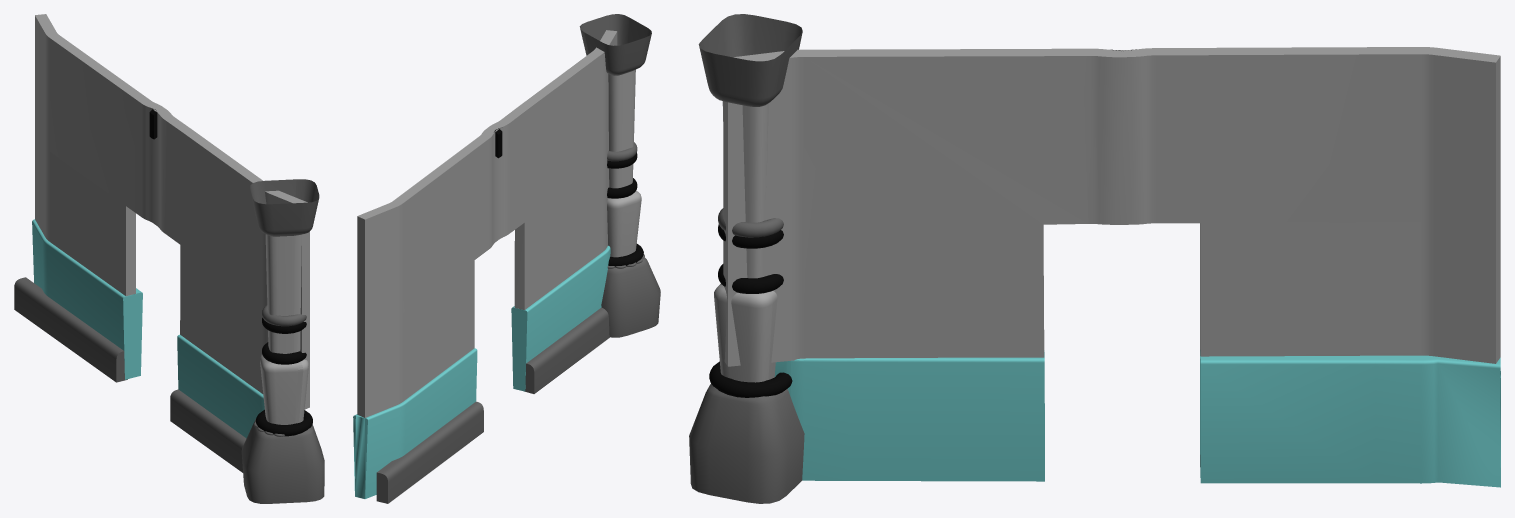
The model's file is murs_entree_serv.fbx.
The picture shows the model from 3 angles, left to right: view 1: azimuth 30°, elevation 25°; view 2: azimuth 150°, elevation 25°; view 3: azimuth 270°, elevation 25°; orthographic projection. The views are drawn at different scales.
Visible parts, largest first — view 1: Object026; view 2: Object026; view 3: Object026.
Part boxes in pixels (box(x1,y1,x2,y2)): Object026: box(14, 14, 324, 503); Object026: box(353, 14, 660, 503); Object026: box(689, 14, 1500, 503).
Size of the model in its own units: 10.34 by 37.75 by 62.98.
